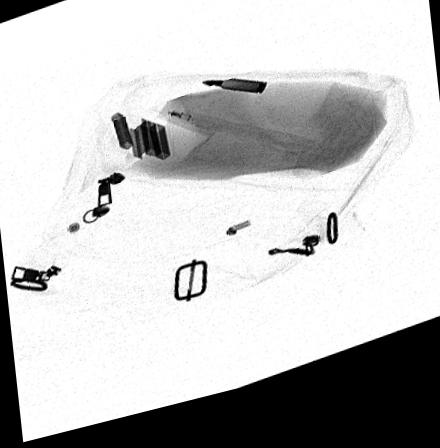Bullet: (200, 88, 268, 105)
